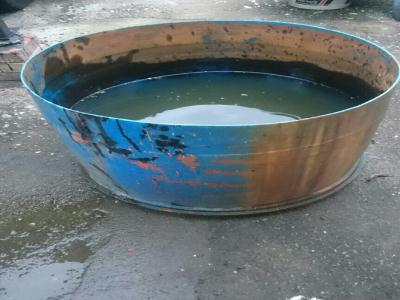bowl: (18, 16, 393, 218)
